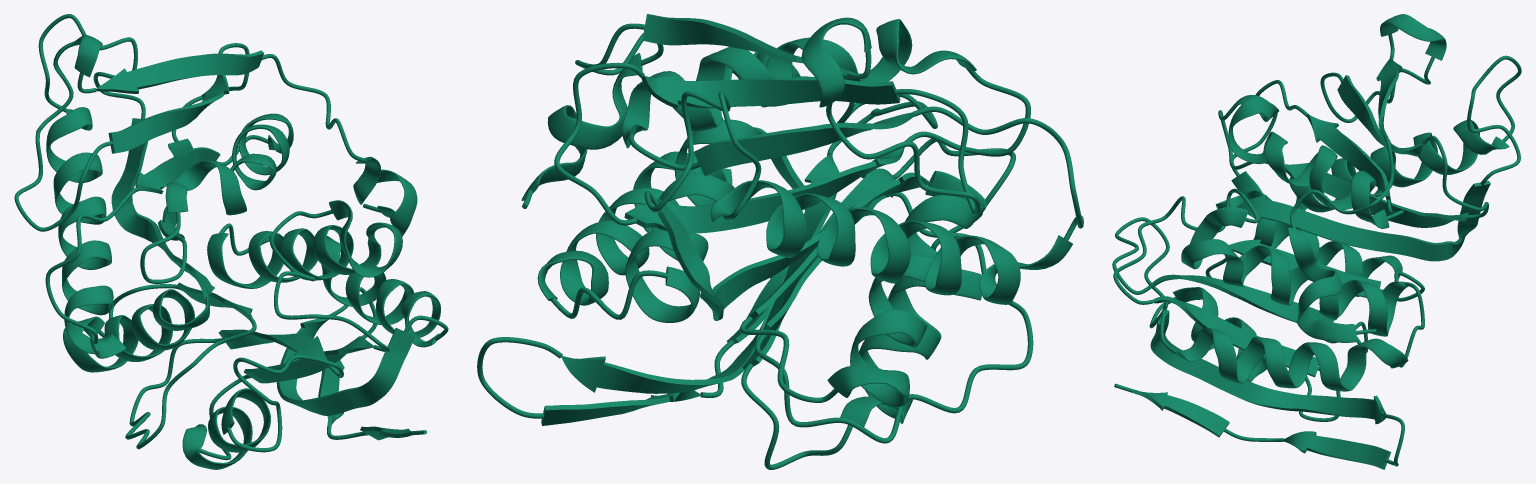
File: 7PZJ.glb
3 renders of one model, left to right at view 1: azimuth 30°, elevation 25°; view 2: azimuth 150°, elevation 25°; view 3: azimuth 270°, elevation 25°, orthographic. The views are drawn at different scales.
Size of the model in its own units: 43.74 by 42.28 by 42.93.
